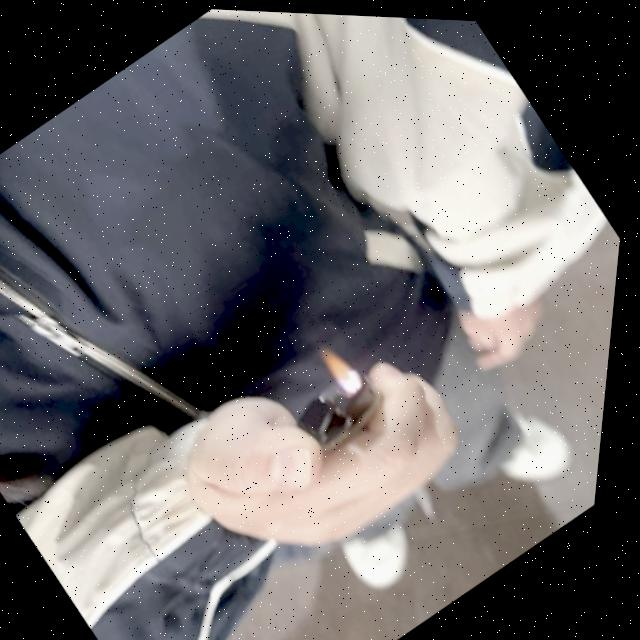Fire: (318, 330, 378, 392)
